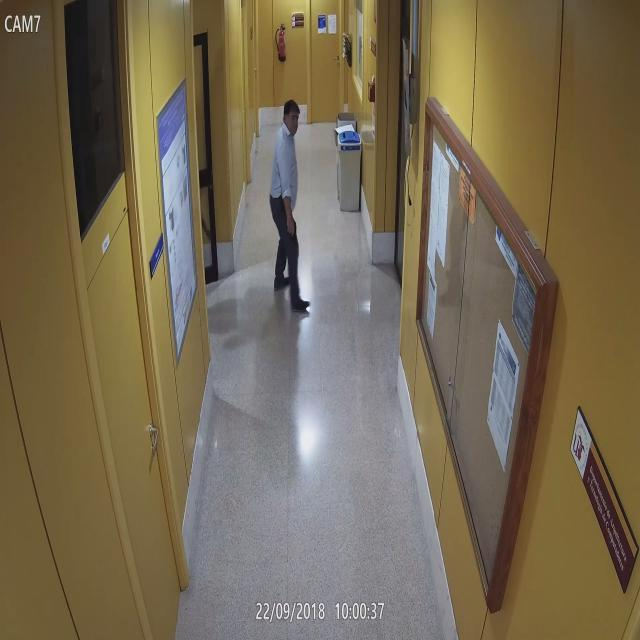weapon: (286, 220, 300, 245)
